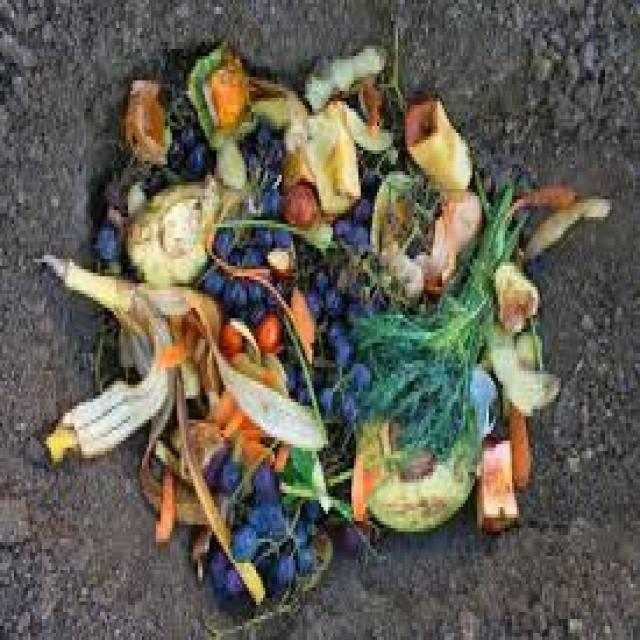food_waste: (146, 116, 558, 578)
